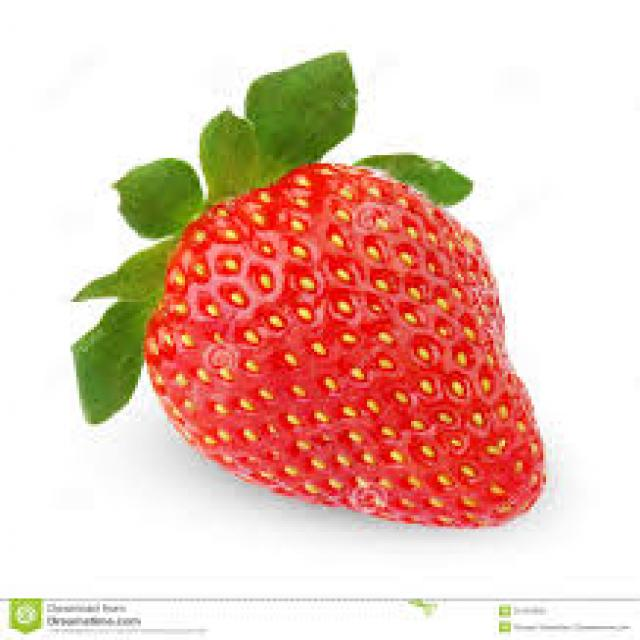organic waste: (65, 47, 546, 527)
